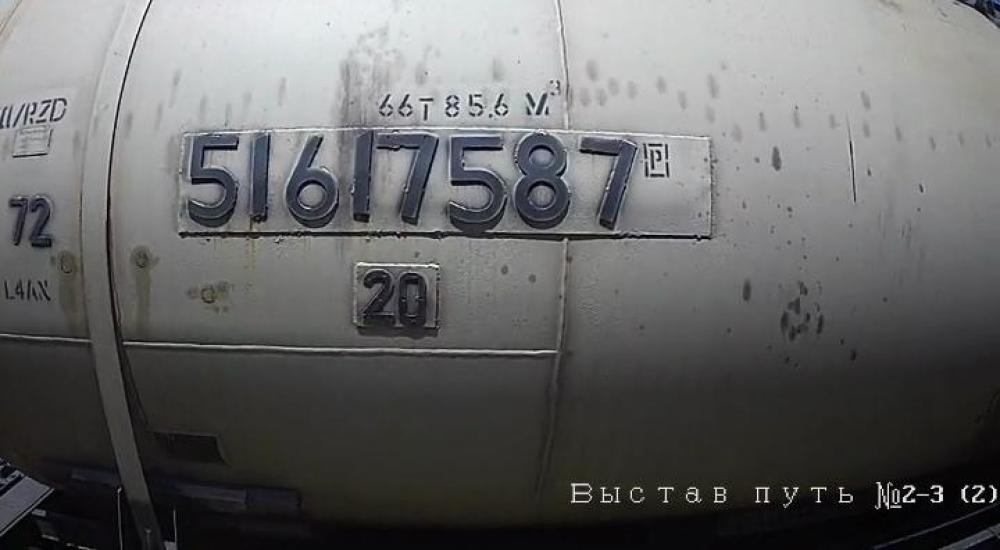Wagon-number: (177, 128, 641, 232)
